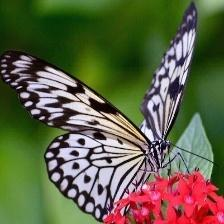butterfly: (0, 3, 198, 222)
